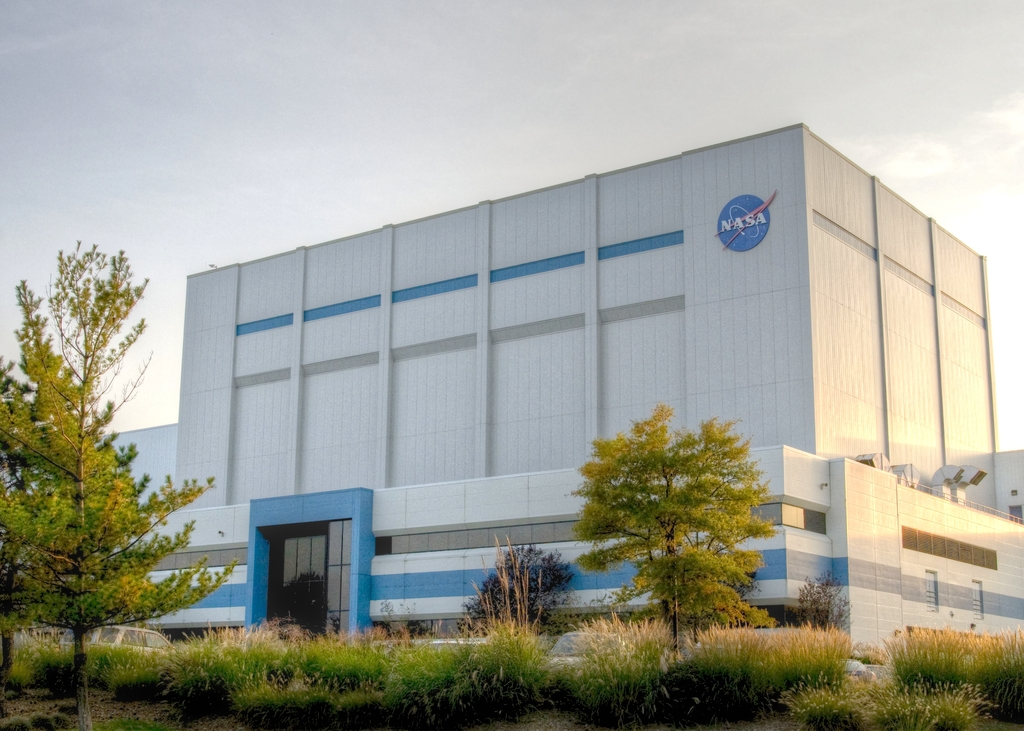Tree: (0, 234, 240, 727), (560, 404, 780, 660), (456, 540, 576, 638), (790, 572, 854, 632)
